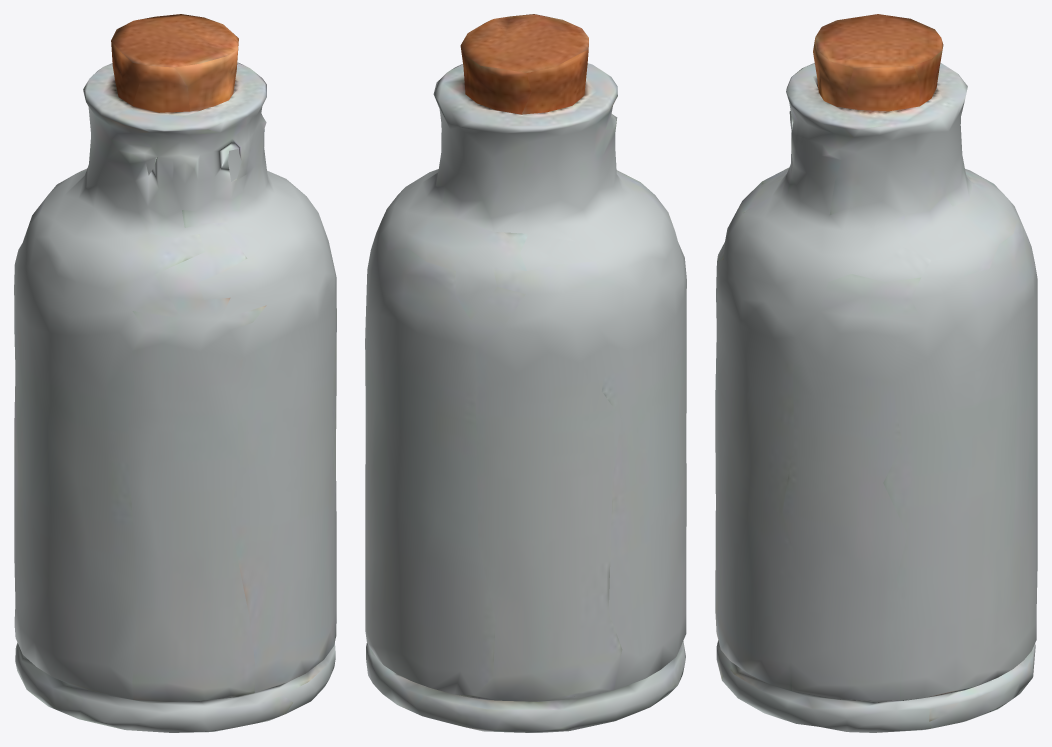
The model's file is rh_brine_jug.glb.
3 views of the same model, side by side, from view 1: azimuth 30°, elevation 25°; view 2: azimuth 150°, elevation 25°; view 3: azimuth 270°, elevation 25° (orthographic).
Parts seen in each view (by area): view 1: geometry_0; view 2: geometry_0; view 3: geometry_0.
Boxes of the visible parts, x1,y1,x2,y2 form: geometry_0: (14,14,336,732); geometry_0: (365,14,686,732); geometry_0: (715,14,1037,732).
Bounding box in the file's own units: 0.4633 × 1 × 0.4644.
1 material, 1 textured.
